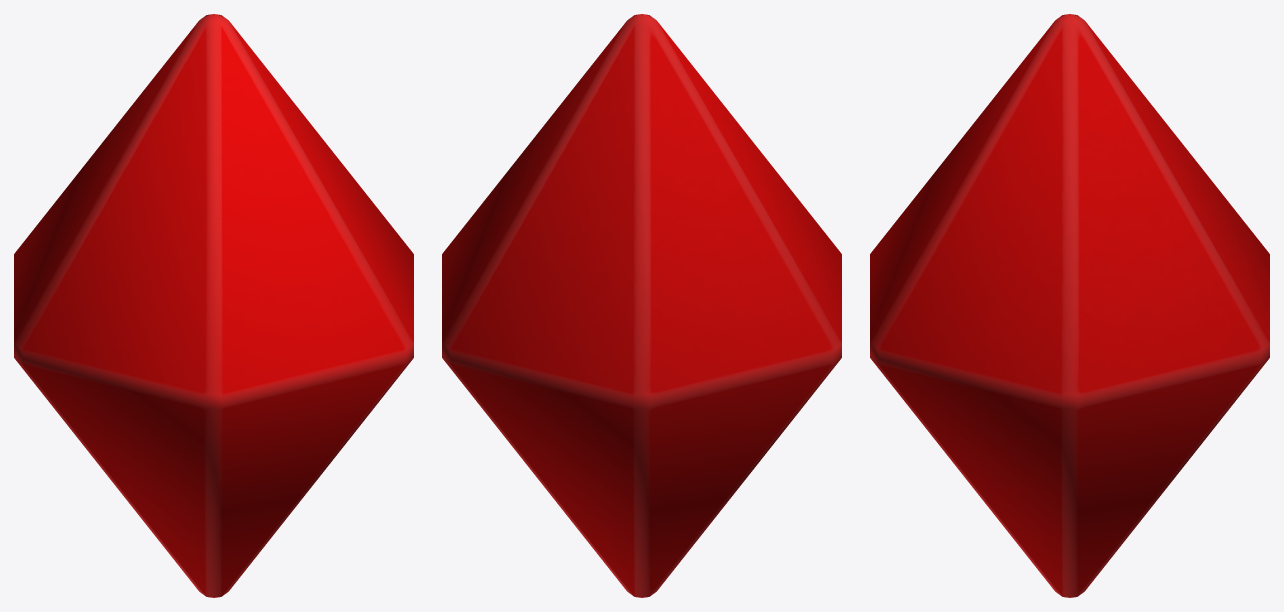
The model's file is Gem01_Red.FBX.
3 renders of one model, left to right at view 1: azimuth 30°, elevation 25°; view 2: azimuth 150°, elevation 25°; view 3: azimuth 270°, elevation 25°, orthographic.
Visible parts, largest first — view 1: Gem01_Red; view 2: Gem01_Red; view 3: Gem01_Red.
Boxes of the visible parts, x1,y1,x2,y2 form: Gem01_Red: (14,14,413,597); Gem01_Red: (442,14,841,597); Gem01_Red: (870,14,1269,597).
Bounding box in the file's own units: 51.18 × 73.01 × 45.29.
Materials: 1 (1 with a texture image).
